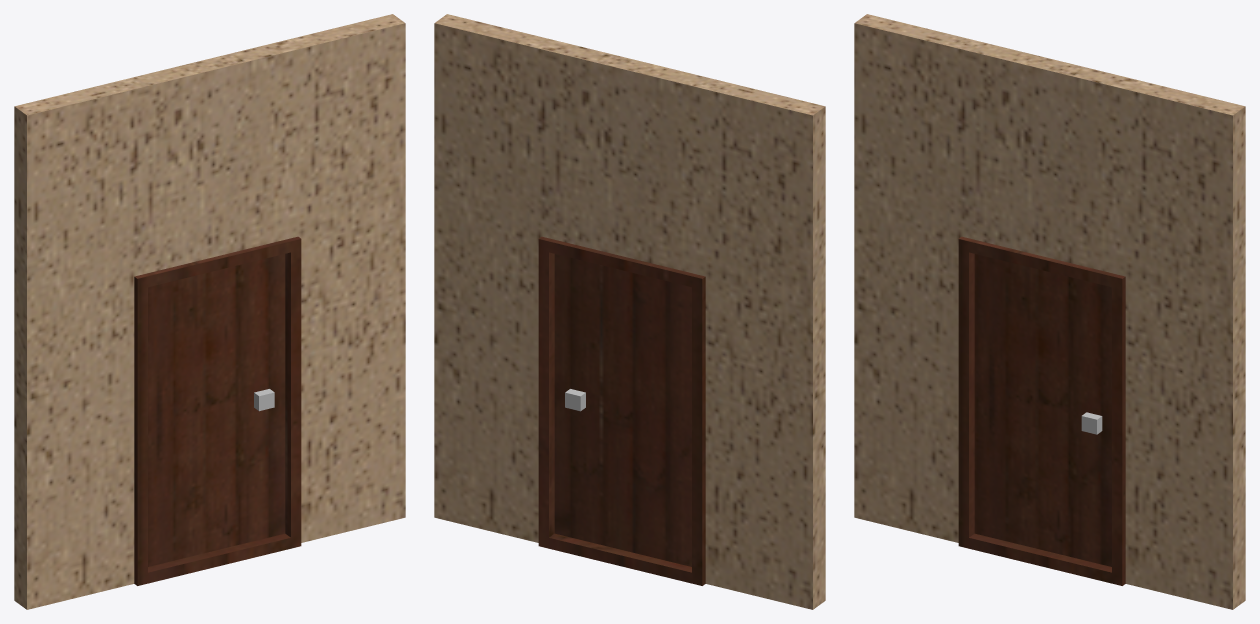
The model's file is doorway.fbx.
3 renders of one model, left to right at view 1: azimuth 30°, elevation 25°; view 2: azimuth 150°, elevation 25°; view 3: azimuth 330°, elevation 25°, orthographic.
Parts seen in each view (by area): view 1: doorway, door, doorframe; view 2: doorway, door, doorframe; view 3: doorway, door, doorframe.
Part boxes in pixels (bbox=[...]): doorway: bbox=[14, 14, 405, 609]; door: bbox=[148, 254, 285, 566]; doorframe: bbox=[134, 236, 301, 585]; doorway: bbox=[434, 14, 825, 609]; door: bbox=[554, 254, 691, 566]; doorframe: bbox=[538, 236, 705, 585]; doorway: bbox=[854, 14, 1245, 609]; door: bbox=[974, 254, 1111, 566]; doorframe: bbox=[958, 236, 1125, 585].
Size of the model in its own units: 400 by 499 by 34.77.
